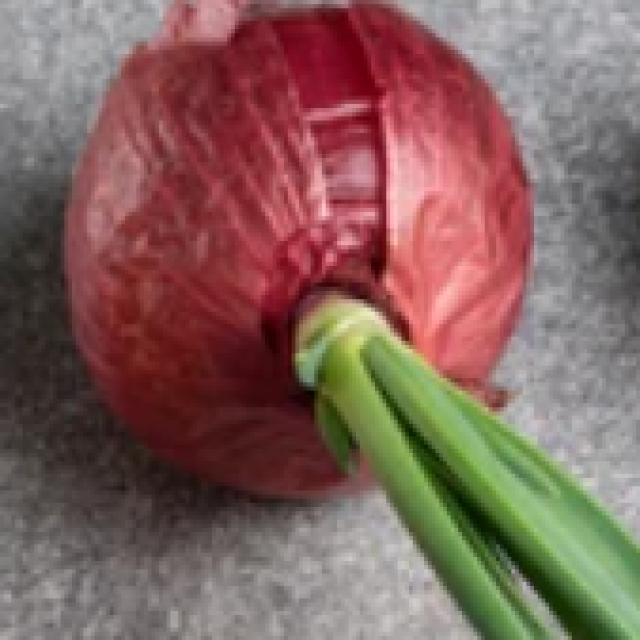sprouting: (296, 308, 564, 586)
